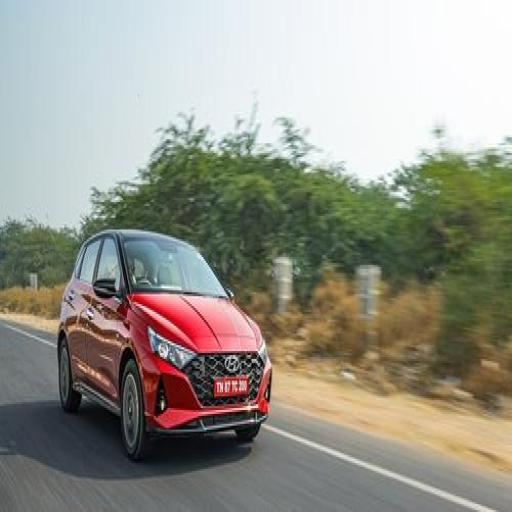License: (211, 376, 253, 399)
